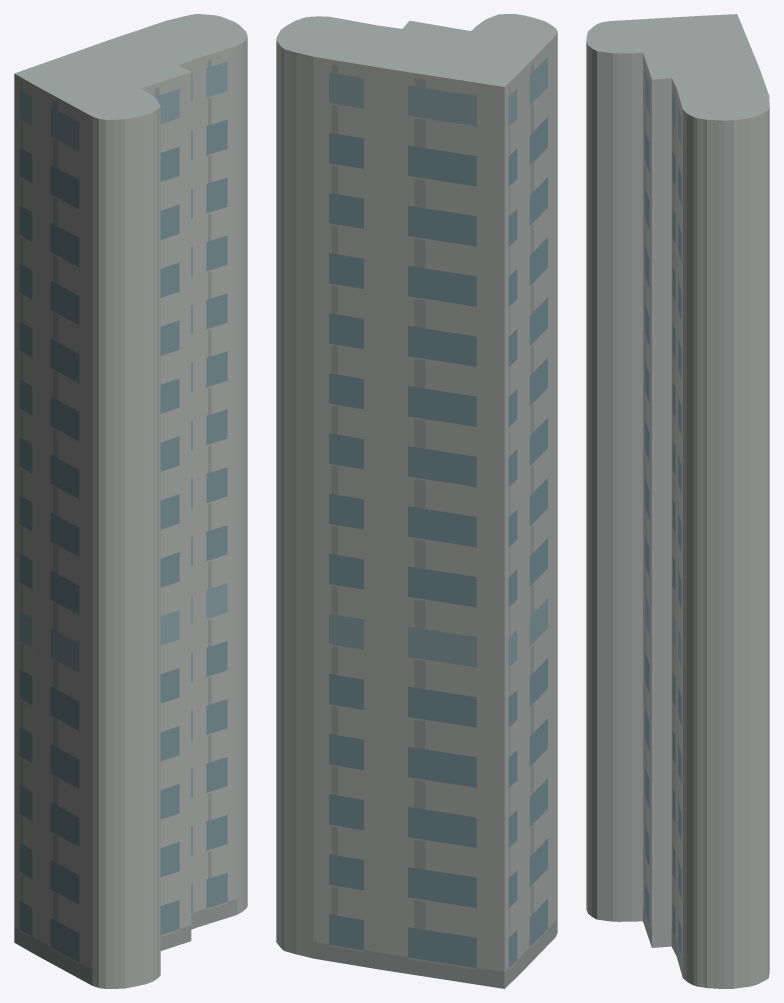
File: survey-upis-32997422.glb
The picture shows the model from 3 angles, left to right: view 1: azimuth 30°, elevation 25°; view 2: azimuth 150°, elevation 25°; view 3: azimuth 270°, elevation 25°; orthographic projection. The views are drawn at different scales.
Visible parts, largest first — view 1: survey-upis-32997422.tmp; view 2: survey-upis-32997422.tmp; view 3: survey-upis-32997422.tmp.
Boxes of the visible parts, bbox=[...] form: survey-upis-32997422.tmp: bbox=[14, 14, 247, 988]; survey-upis-32997422.tmp: bbox=[276, 14, 557, 988]; survey-upis-32997422.tmp: bbox=[586, 14, 769, 988].
Size of the model in its own units: 12.04 by 45.75 by 8.75.
